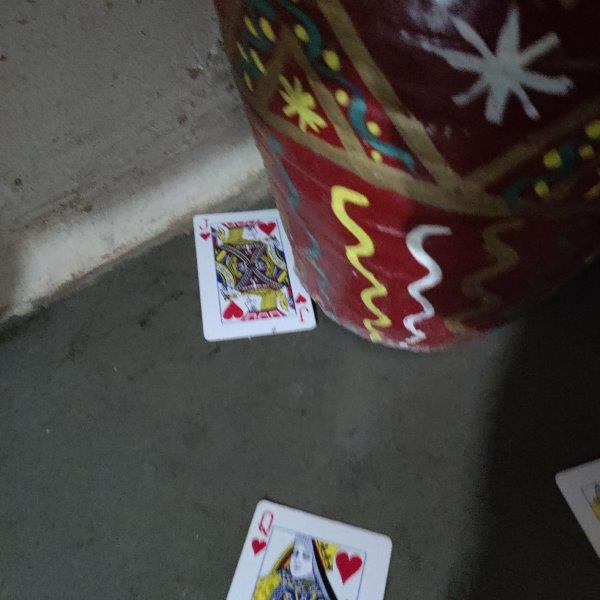Jack of Hearts: (193, 207, 319, 343)
Queen of Hearts: (225, 499, 393, 600)
